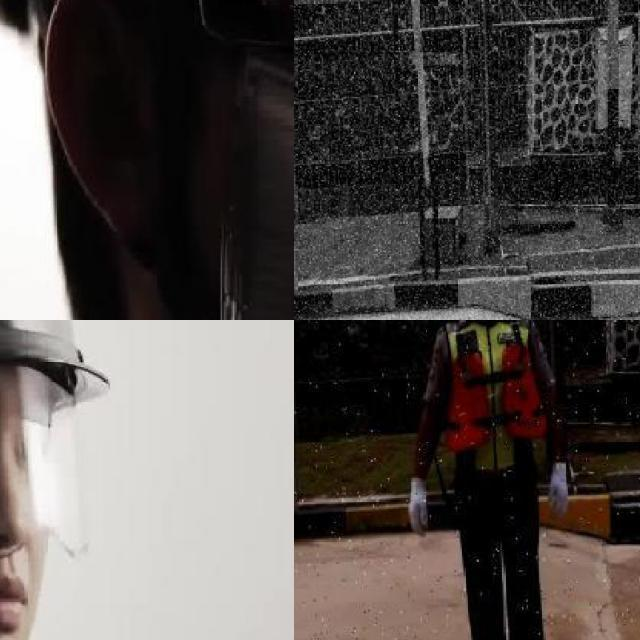apron: (544, 454, 574, 522), (404, 476, 432, 538)
